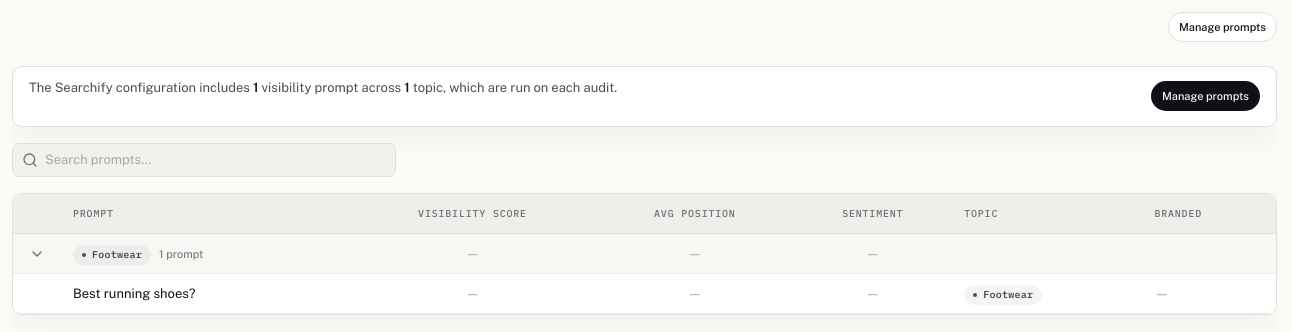
Test case: PromptsPage (Your Prompts) › collapses a topic group when its expander is toggled
Check: the text "Best running shoes?" is shown, box [73,286,196,301]
Click the button named "Collapse topic Footwear" at x=37, y=254, box [25,242,49,266]
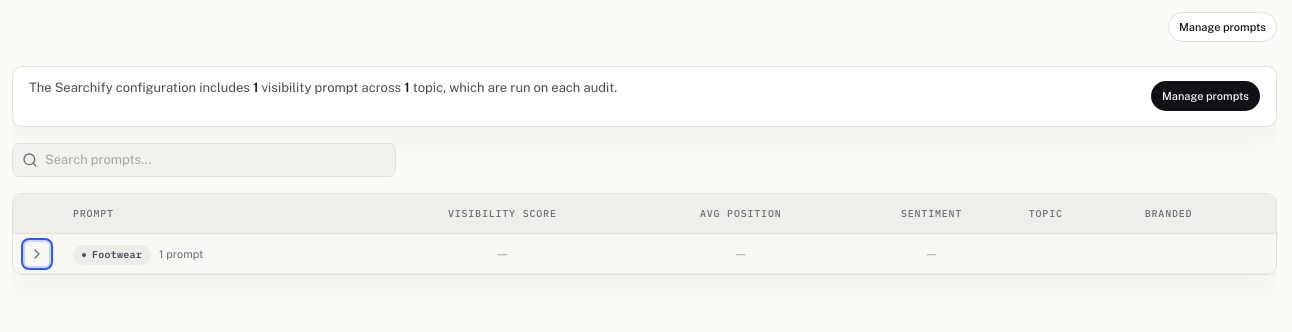
Check: the text "Best running shoes?" is gone
Click the button named "Expand topic Footwear" at x=37, y=254, box [25,242,49,266]
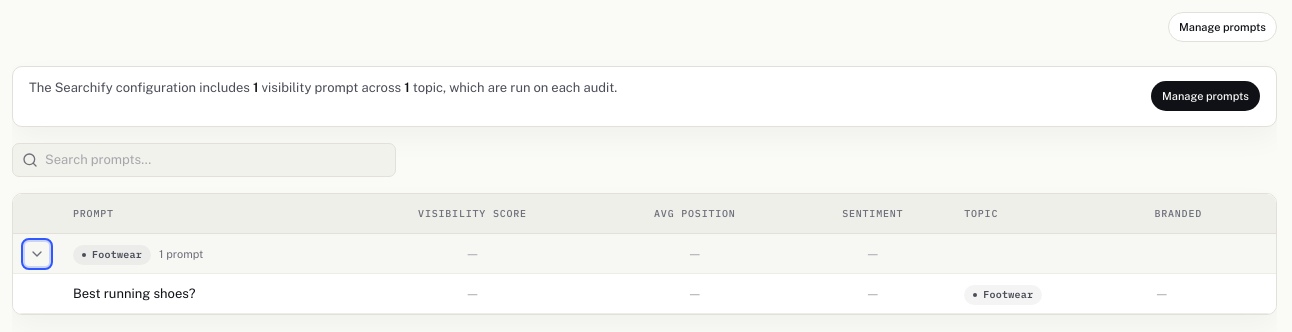
Check: the text "Best running shoes?" is shown, box [73,286,196,301]
